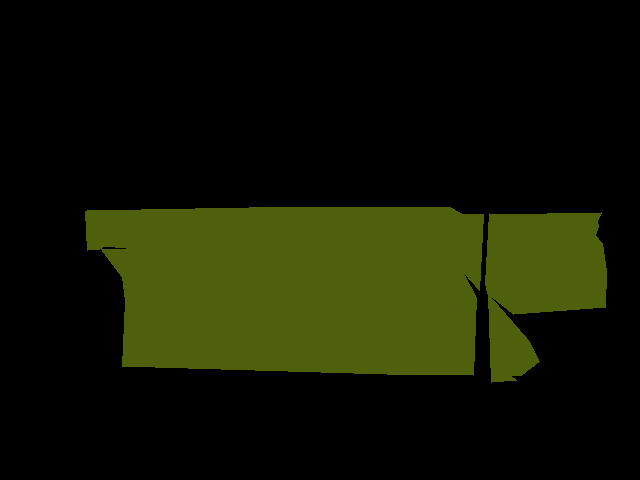Train: (100, 248, 540, 382), (85, 207, 607, 315)
